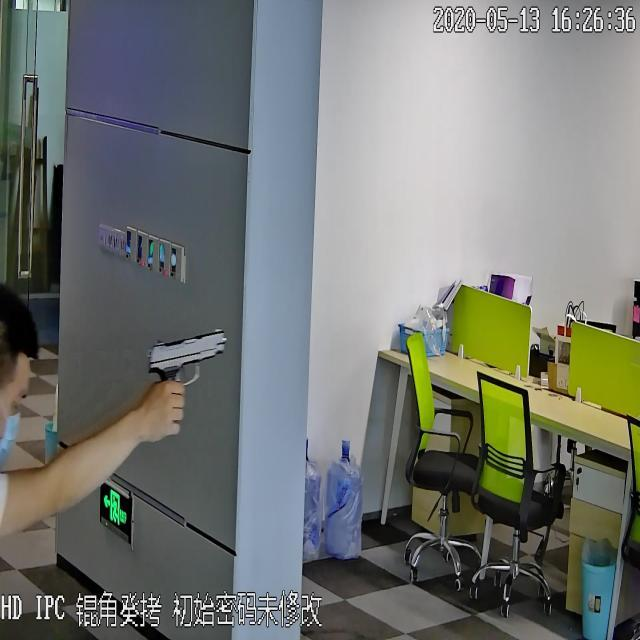gun: (143, 326, 229, 438)
